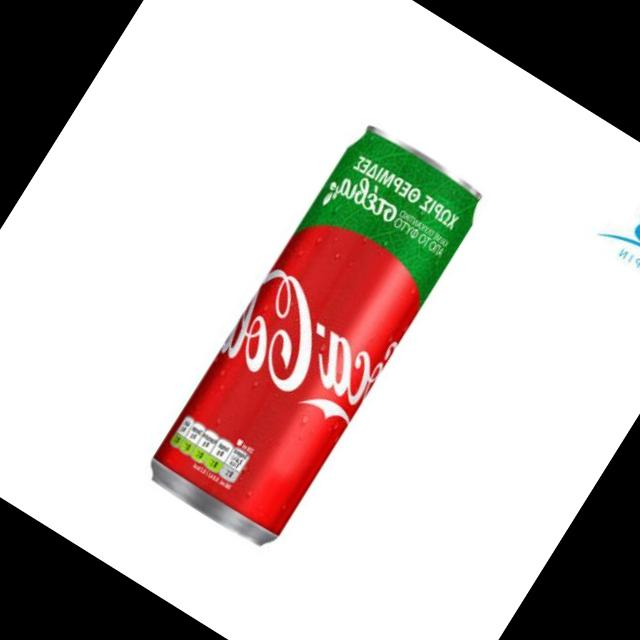Kaleng: (140, 115, 494, 555)
